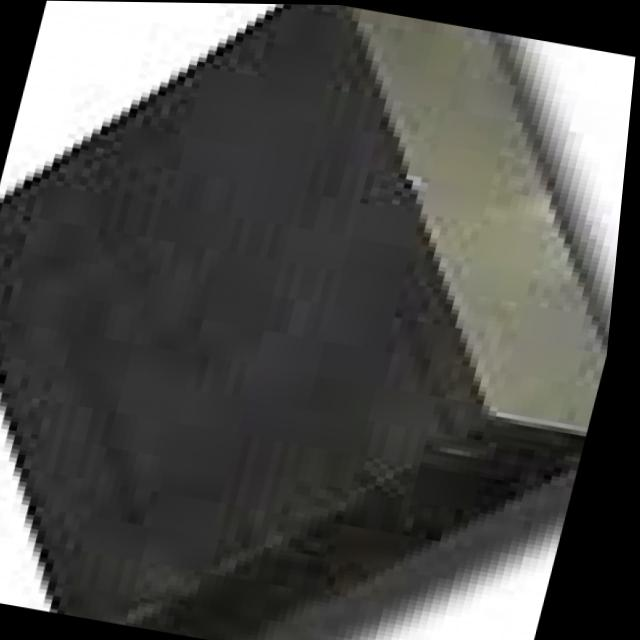metal-plates: (1, 4, 616, 640)
